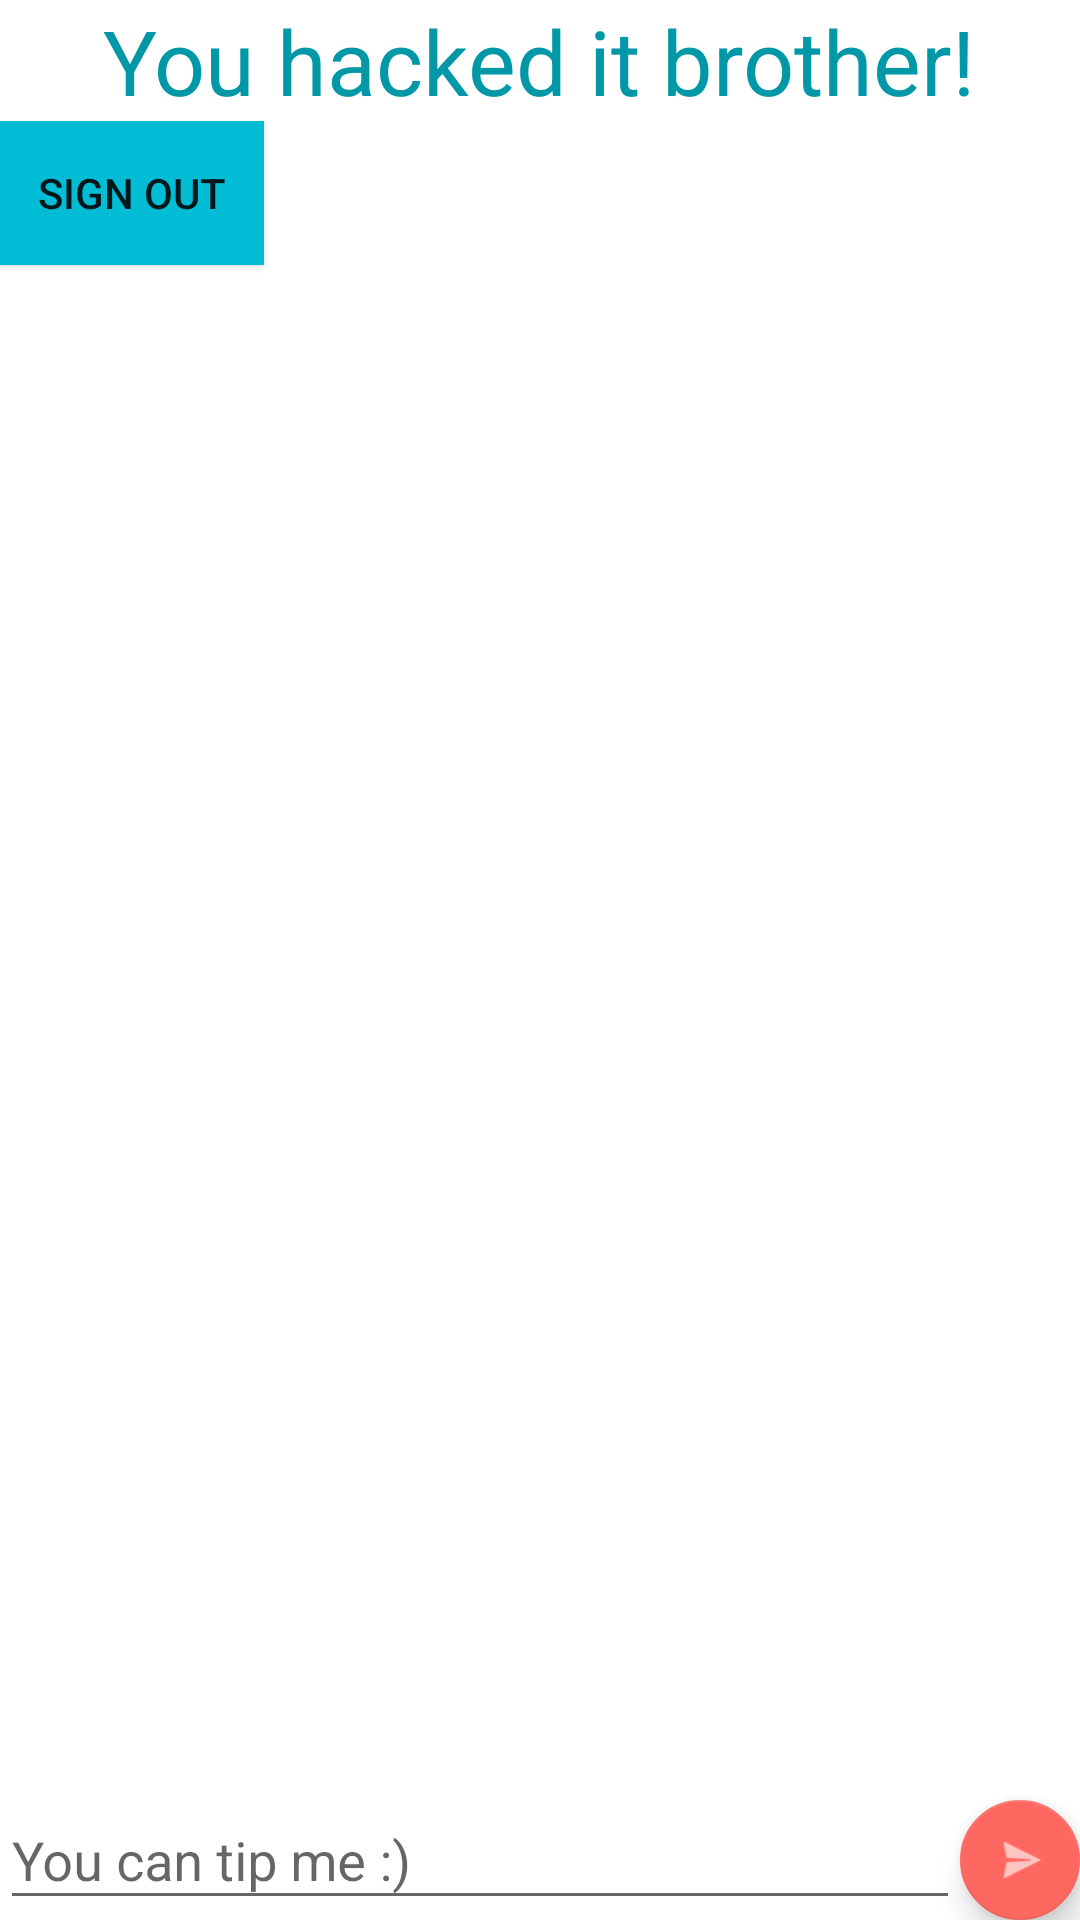

Icon click points for this 1080*1920 phone screenshot, format [x,y]:
send: [1020,1860]
